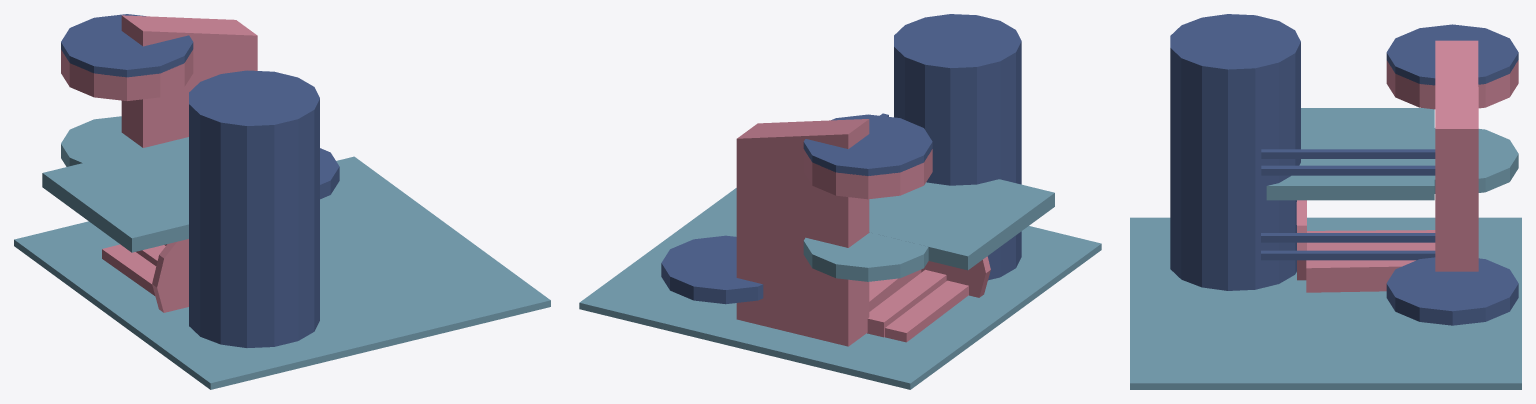
3 views of the same model, side by side, from view 1: azimuth 30°, elevation 25°; view 2: azimuth 150°, elevation 25°; view 3: azimuth 270°, elevation 25° (orthographic). The views are drawn at different scales.
Visible parts, largest first — view 1: Plane, Cylinder, Cube.001, Cube, Cylinder.001, Cylinder.005, Cylinder.002, Cylinder.003, Cube.004, Cylinder.004; view 2: Plane, Cube, Cylinder, Cube.001, Cylinder.001, Cylinder.004, Cylinder.002, Cylinder.005, Cube.004, Cube.003, Cylinder.003, Cube.002; view 3: Plane, Cylinder, Cube.001, Cube, Cylinder.004, Cylinder.001, Cube.002, Cylinder.005, Cylinder.002, Cube.005, Cube.007, Cube.006 (+3 smaller).
Boxes of the visible parts, x1=… form: Plane: x1=14, y1=156, x2=550, y2=389; Cylinder: x1=189, y1=70, x2=319, y2=347; Cube.001: x1=42, y1=137, x2=188, y2=252; Cube: x1=121, y1=15, x2=257, y2=147; Cylinder.001: x1=61, y1=14, x2=193, y2=77; Cylinder.005: x1=61, y1=49, x2=193, y2=100; Cylinder.002: x1=61, y1=116, x2=188, y2=166; Cylinder.003: x1=152, y1=239, x2=188, y2=312; Cube.004: x1=102, y1=244, x2=156, y2=295; Cylinder.004: x1=320, y1=148, x2=339, y2=199; Plane: x1=579, y1=188, x2=1101, y2=389; Cube: x1=736, y1=119, x2=869, y2=346; Cylinder: x1=894, y1=14, x2=1021, y2=280; Cube.001: x1=869, y1=179, x2=1054, y2=270; Cylinder.001: x1=803, y1=114, x2=932, y2=175; Cylinder.004: x1=661, y1=235, x2=763, y2=304; Cylinder.002: x1=803, y1=232, x2=928, y2=281; Cylinder.005: x1=803, y1=149, x2=932, y2=199; Cube.004: x1=885, y1=280, x2=968, y2=342; Cube.003: x1=867, y1=269, x2=946, y2=337; Cylinder.003: x1=921, y1=256, x2=990, y2=297; Cube.002: x1=869, y1=269, x2=921, y2=311; Plane: x1=1130, y1=217, x2=1521, y2=389; Cylinder: x1=1170, y1=14, x2=1300, y2=290; Cube.001: x1=1266, y1=108, x2=1434, y2=200; Cube: x1=1435, y1=40, x2=1478, y2=271; Cylinder.004: x1=1386, y1=257, x2=1518, y2=325; Cylinder.001: x1=1386, y1=24, x2=1518, y2=85; Cube.002: x1=1306, y1=242, x2=1435, y2=292; Cylinder.005: x1=1386, y1=60, x2=1518, y2=109; Cylinder.002: x1=1434, y1=128, x2=1518, y2=193; Cube.005: x1=1261, y1=165, x2=1435, y2=175; Cube.007: x1=1261, y1=250, x2=1435, y2=260; Cube.006: x1=1261, y1=149, x2=1435, y2=158.
Bounding box in the file's own units: 6.2 × 3.83 × 5.93.
